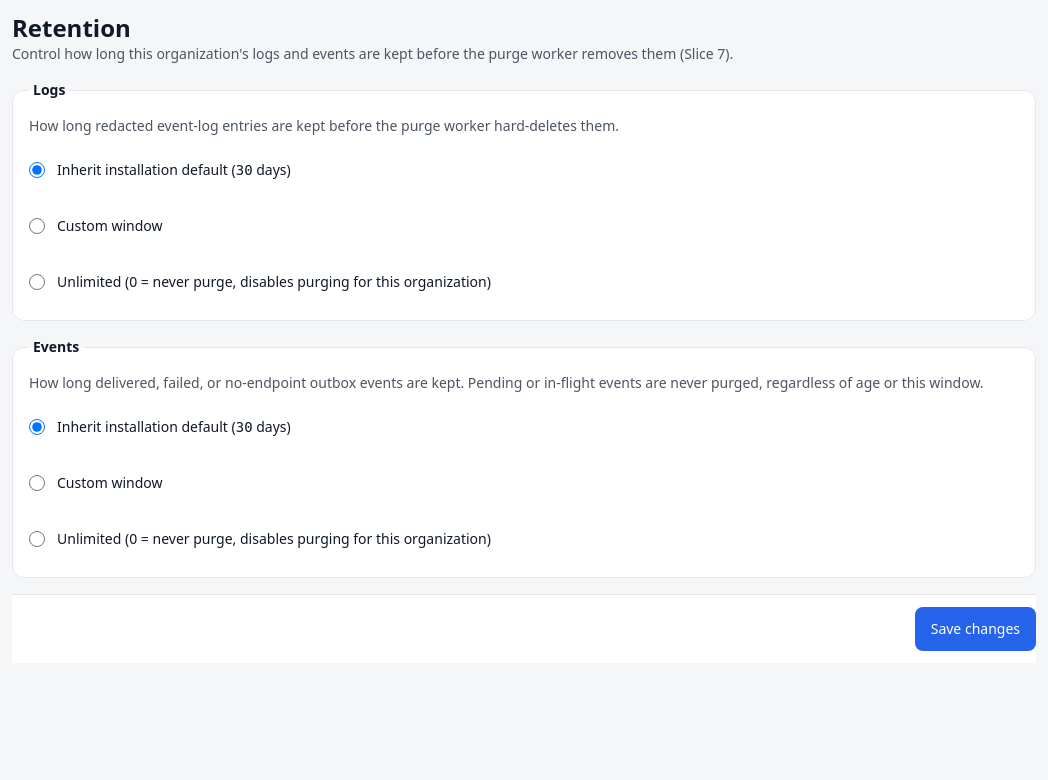
Scenario: RetentionPage › surfaces a sub-minimum validation error from the server inline in the save bar
Click the button "Save changes".
click(975, 629)  # box [915,607,1036,651]
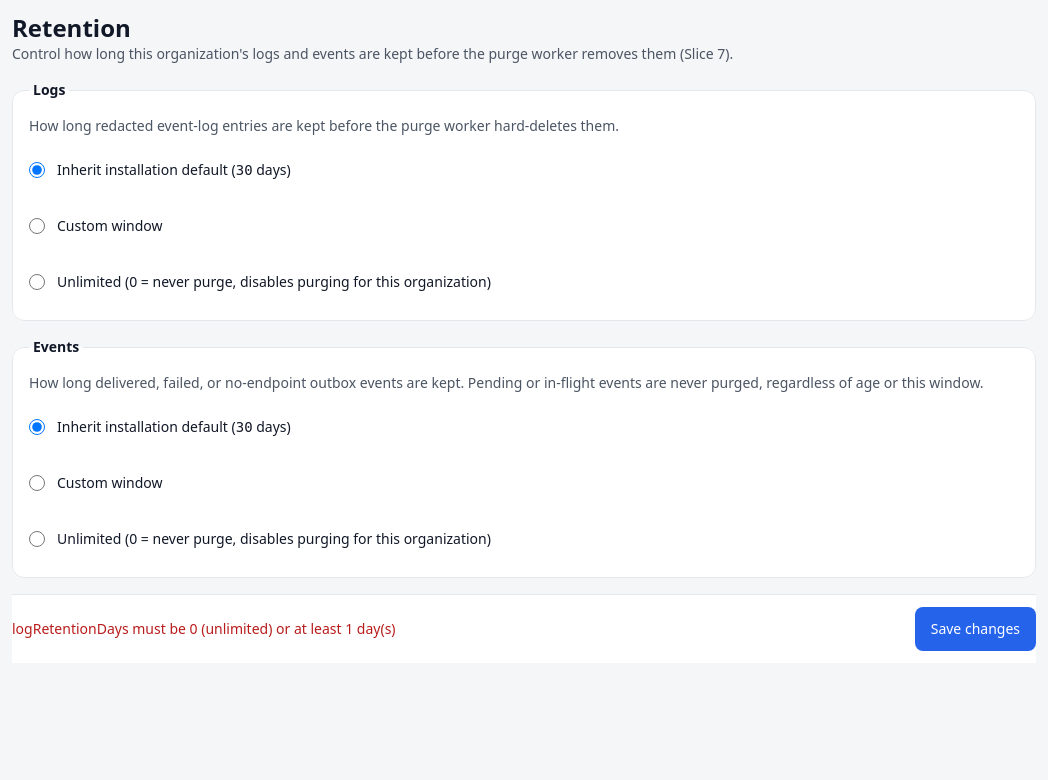
Check: the text "logRetentionDays must be 0 (unlimited) or at least 1 day(s)" is shown, box [12,619,396,638]
